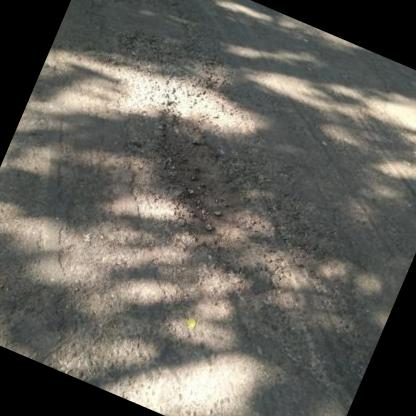pothole: (117, 104, 285, 260)
